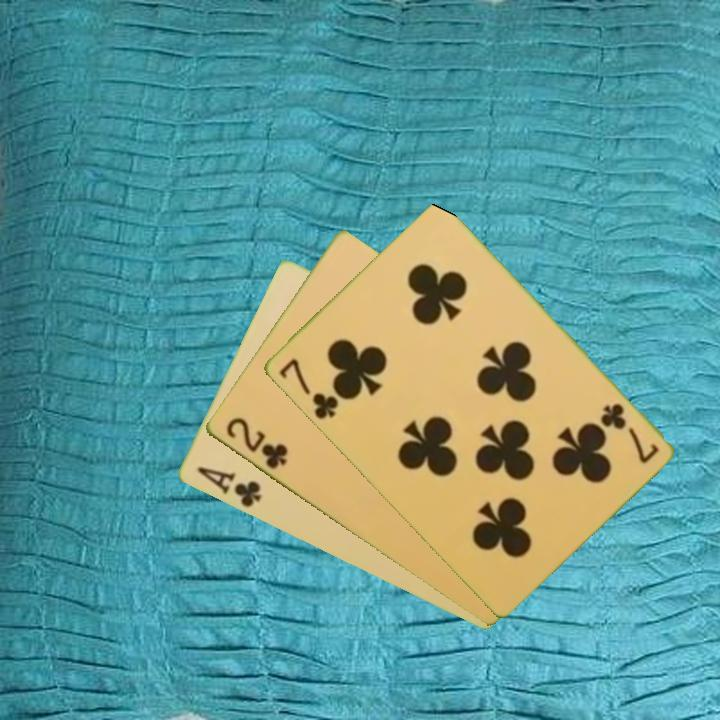2c: (222, 413, 290, 472)
7c: (274, 355, 341, 422), (596, 399, 662, 467)
Ac: (193, 463, 264, 511)
